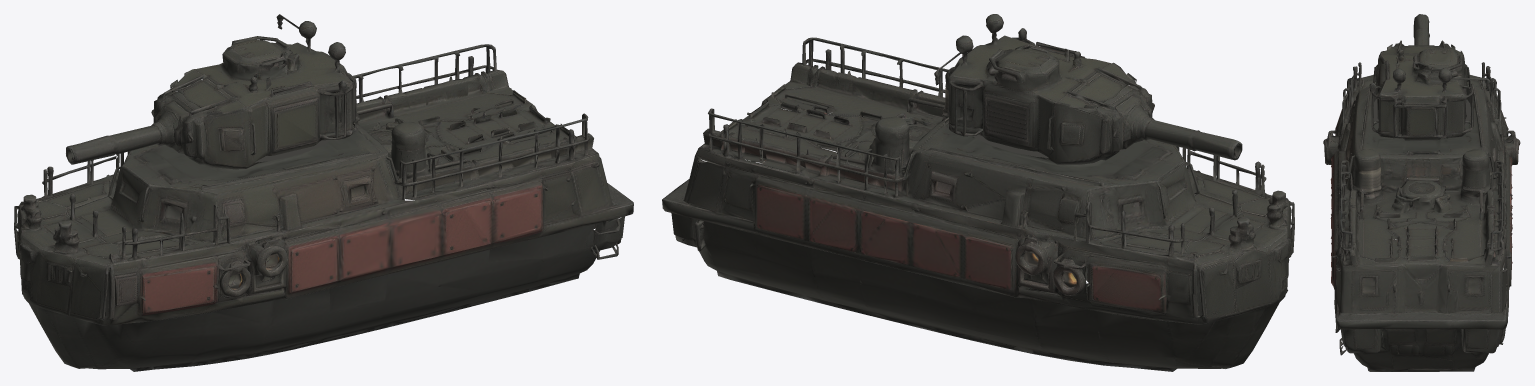
File: picket-boat.glb
The picture shows the model from 3 angles, left to right: view 1: azimuth 30°, elevation 25°; view 2: azimuth 150°, elevation 25°; view 3: azimuth 270°, elevation 25°; orthographic projection. The views are drawn at different scales.
Parts seen in each view (by area): view 1: Hull, Turret; view 2: Hull, Turret; view 3: Hull, Turret.
Part boxes in pixels (x1,y1,x2,y2): Hull: [14, 44, 633, 371]; Turret: [66, 14, 355, 166]; Hull: [662, 37, 1294, 371]; Turret: [934, 14, 1242, 162]; Hull: [1323, 62, 1520, 371]; Turret: [1370, 14, 1490, 140].
Bounding box in the file's own units: 2 × 0.9479 × 0.7782.
Materials: 1 (1 with a texture image).
